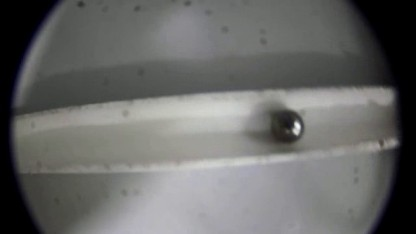gangzhu: (267, 112, 305, 143)
